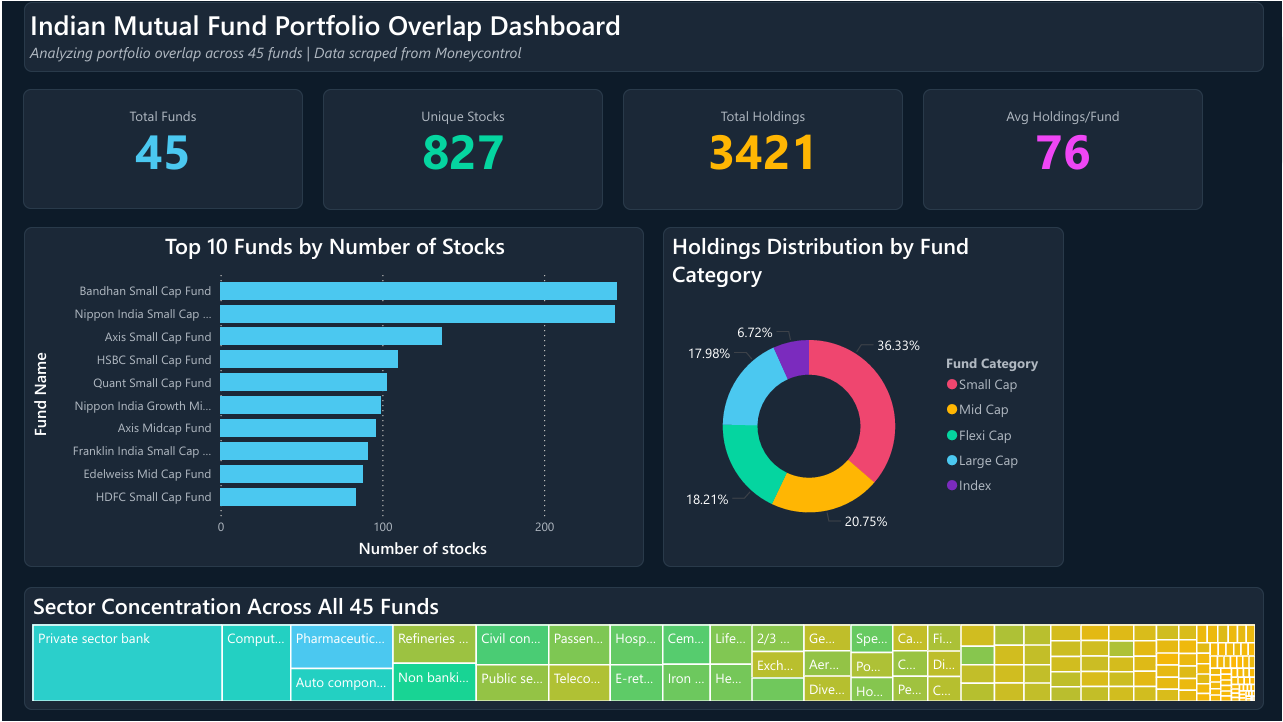

This screenshot's page, from the dashboard's own definition file:
{"tool":"powerbi","page":{"name":"Overview","canvas":[1280,720],"ordinal":0},"visuals":[{"type":"textbox","box":[20.5,0,1240,70],"z":0},{"type":"card","fields":{"Values":["Count(mutual_fund_holdings_dashboard.fund_name)"]},"box":[20,87,280,120],"z":1000},{"type":"card","fields":{"Values":["Count(mutual_fund_holdings_dashboard.stock_name)"]},"box":[320,87,280,120.6],"z":2000},{"type":"card","fields":{"Values":["CountNonNull(mutual_fund_holdings_dashboard.stock_name)"]},"box":[620,87,279.9,120.6],"z":3000},{"type":"card","fields":{"Values":["mutual_fund_holdings_dashboard.Avg Holdings Per Fund"]},"box":[920,87,279.9,120.6],"z":4000},{"type":"textbox","box":[20,100,280,30],"z":5000},{"type":"textbox","box":[320,100,280,30],"z":6000},{"type":"textbox","box":[620,100,280,30],"z":7000},{"type":"textbox","box":[920,100,280,30],"z":8000},{"type":"clusteredBarChart","title":"Top 10 Funds by Number of Stocks","fields":{"Category":["mutual_fund_holdings_dashboard.fund_name"],"Y":["CountNonNull(mutual_fund_holdings_dashboard.stock_name)"]},"box":[20.5,225,620,340.2],"z":9000},{"type":"donutChart","title":"Holdings Distribution by Fund Category","fields":{"Category":["mutual_fund_holdings_dashboard.fund_category"],"Y":["CountNonNull(mutual_fund_holdings_dashboard.stock_name)"]},"box":[660,225,400.5,340.2],"z":10000},{"type":"treemap","title":"Sector Concentration Across All 45 Funds","fields":{"Group":["mutual_fund_holdings_dashboard.sector"],"Values":["Sum(mutual_fund_holdings_dashboard.holding_pct)"]},"box":[20.5,585.1,1240,123],"z":11000}]}

Visuals, with their boxes in screenshot pixels (x1, y1, x2, y2), scaled from the page's 1280x720 canvas onto the 1283x722 screenshot:
textbox: {"x1": 21, "y1": 0, "x2": 1263, "y2": 70}
card - Count(mutual_fund_holdings_dashboard.fund_name): {"x1": 20, "y1": 87, "x2": 301, "y2": 208}
card - Count(mutual_fund_holdings_dashboard.stock_name): {"x1": 321, "y1": 87, "x2": 601, "y2": 208}
card - CountNonNull(mutual_fund_holdings_dashboard.stock_name): {"x1": 621, "y1": 87, "x2": 902, "y2": 208}
card - mutual_fund_holdings_dashboard.Avg Holdings Per Fund: {"x1": 922, "y1": 87, "x2": 1203, "y2": 208}
textbox: {"x1": 20, "y1": 100, "x2": 301, "y2": 130}
textbox: {"x1": 321, "y1": 100, "x2": 601, "y2": 130}
textbox: {"x1": 621, "y1": 100, "x2": 902, "y2": 130}
textbox: {"x1": 922, "y1": 100, "x2": 1203, "y2": 130}
"Top 10 Funds by Number of Stocks" clusteredBarChart: {"x1": 21, "y1": 226, "x2": 642, "y2": 567}
"Holdings Distribution by Fund Category" donutChart: {"x1": 662, "y1": 226, "x2": 1063, "y2": 567}
"Sector Concentration Across All 45 Funds" treemap: {"x1": 21, "y1": 587, "x2": 1263, "y2": 710}
